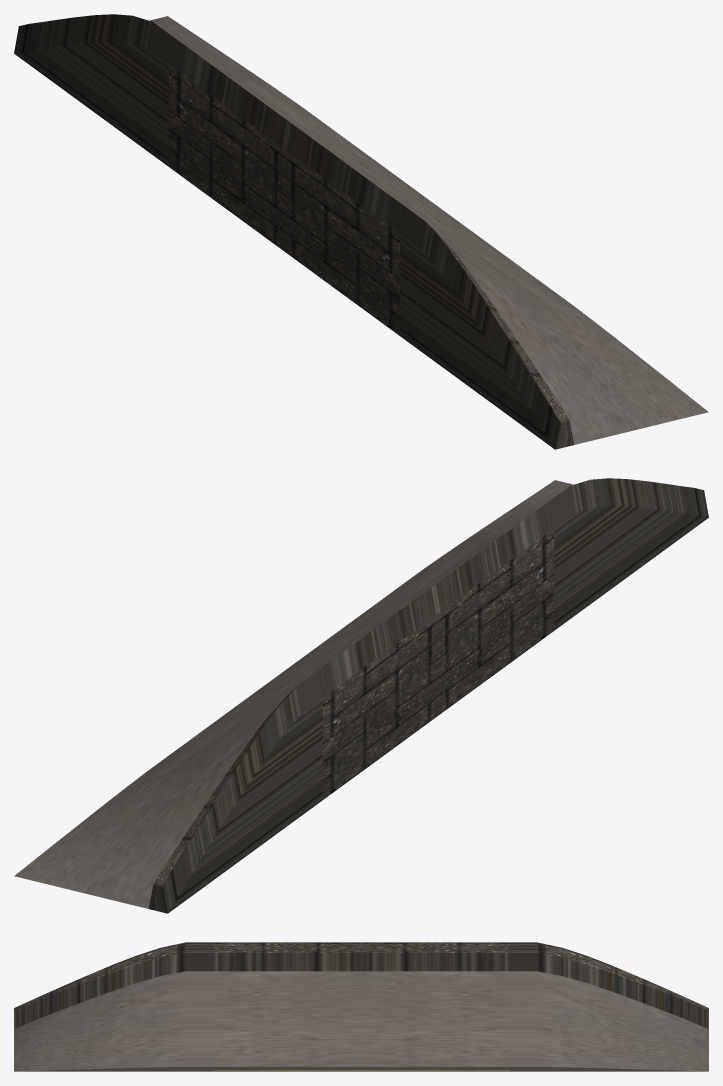
Rendered from 侧斜坡 1.fbx.
The picture shows the model from 3 angles, top to bottom: view 1: azimuth 30°, elevation 25°; view 2: azimuth 150°, elevation 25°; view 3: azimuth 270°, elevation 25°; orthographic projection. The views are drawn at different scales.
Visible parts, largest first — view 1: polySurface118; view 2: polySurface118; view 3: polySurface118.
Part boxes in pixels (x1=…): polySurface118: x1=14, y1=14, x2=708, y2=449; polySurface118: x1=14, y1=478, x2=708, y2=913; polySurface118: x1=14, y1=942, x2=708, y2=1071.
Size of the model in its own units: 618 by 493 by 3764.
